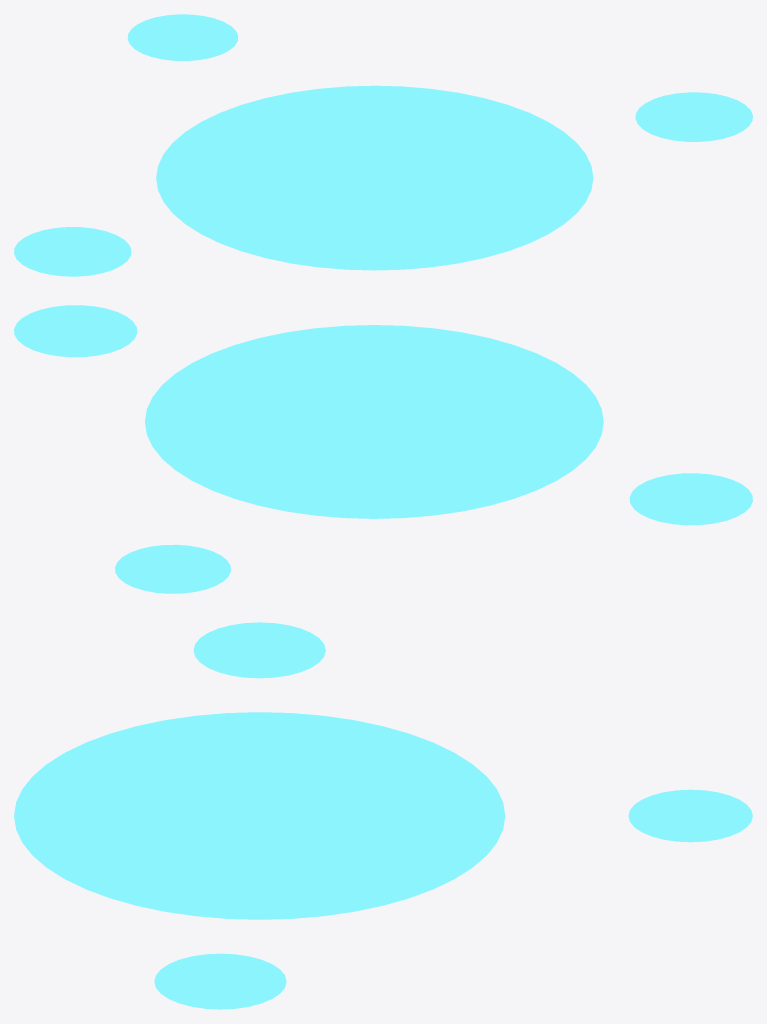
File: g01-water-surfaces-animated.glb
The picture shows the model from 3 angles, top to bottom: view 1: azimuth 30°, elevation 25°; view 2: azimuth 150°, elevation 25°; view 3: azimuth 270°, elevation 25°; orthographic projection. The views are drawn at different scales.
Parts seen in each view (by area): view 1: G01.main.animated-water-surface, G01.satellite-2.animated-water-surface, G01.satellite-1.animated-water-surface, G01.satellite-3.animated-water-surface; view 2: G01.main.animated-water-surface, G01.satellite-1.animated-water-surface, G01.satellite-2.animated-water-surface, G01.satellite-3.animated-water-surface; view 3: G01.main.animated-water-surface, G01.satellite-2.animated-water-surface, G01.satellite-1.animated-water-surface, G01.satellite-3.animated-water-surface.
Part boxes in pixels (x1,y1,x2,y2): G01.main.animated-water-surface: [156, 85, 593, 270]; G01.satellite-2.animated-water-surface: [635, 92, 752, 141]; G01.satellite-1.animated-water-surface: [14, 227, 131, 276]; G01.satellite-3.animated-water-surface: [127, 14, 238, 60]; G01.main.animated-water-surface: [145, 325, 603, 518]; G01.satellite-1.animated-water-surface: [629, 473, 752, 525]; G01.satellite-2.animated-water-surface: [14, 305, 137, 357]; G01.satellite-3.animated-water-surface: [115, 544, 230, 593]; G01.main.animated-water-surface: [14, 712, 505, 919]; G01.satellite-2.animated-water-surface: [154, 953, 286, 1009]; G01.satellite-1.animated-water-surface: [193, 622, 325, 678]; G01.satellite-3.animated-water-surface: [628, 789, 752, 842].
Size of the model in its own units: 23.38 by 0 by 18.86.
